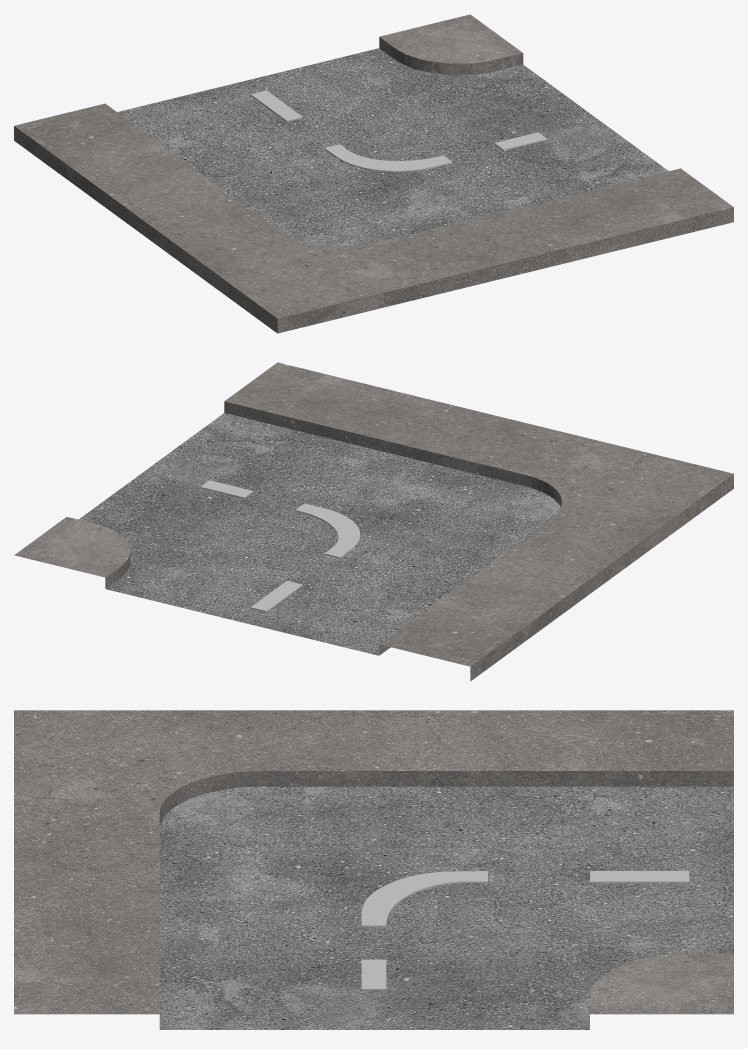
Rendered from curve_street.fbx.
The picture shows the model from 3 angles, top to bottom: view 1: azimuth 30°, elevation 25°; view 2: azimuth 150°, elevation 25°; view 3: azimuth 270°, elevation 25°; orthographic projection. The views are drawn at different scales.
Visible parts, largest first — view 1: street_curve; view 2: street_curve; view 3: street_curve.
Part boxes in pixels (x1,y1,x2,y2): street_curve: [14, 14, 733, 333]; street_curve: [14, 362, 733, 681]; street_curve: [14, 710, 733, 1029].
Size of the model in its own units: 10 by 10 by 0.3116.
3 materials, 2 textured.
